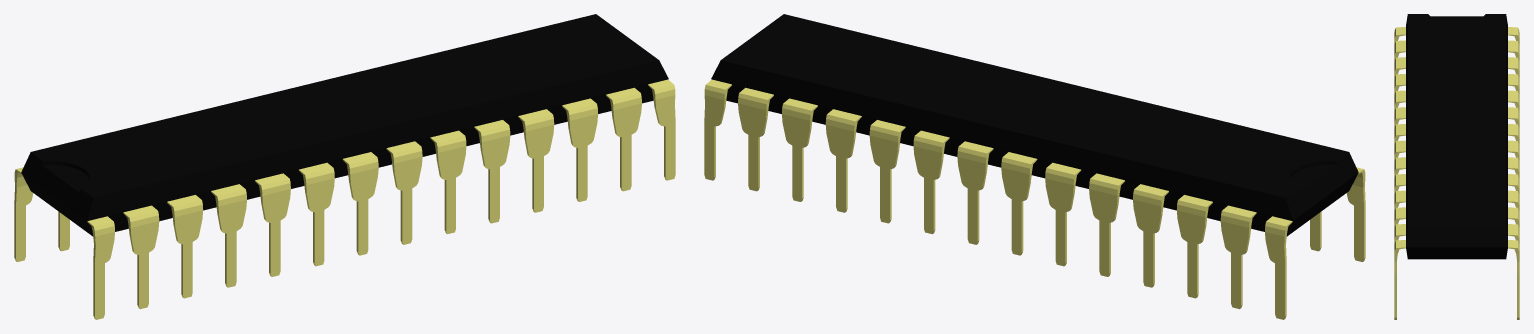
3 renders of one model, left to right at view 1: azimuth 30°, elevation 25°; view 2: azimuth 150°, elevation 25°; view 3: azimuth 270°, elevation 25°, orthographic. The views are drawn at different scales.
Visible parts, largest first — view 1: Cube.003; view 2: Cube.003; view 3: Cube.003.
Part boxes in pixels (x1=…): Cube.003: x1=14, y1=14, x2=675, y2=319; Cube.003: x1=704, y1=14, x2=1365, y2=319; Cube.003: x1=1394, y1=14, x2=1519, y2=319.
Bounding box in the file's own units: 1325 × 248 × 318.
